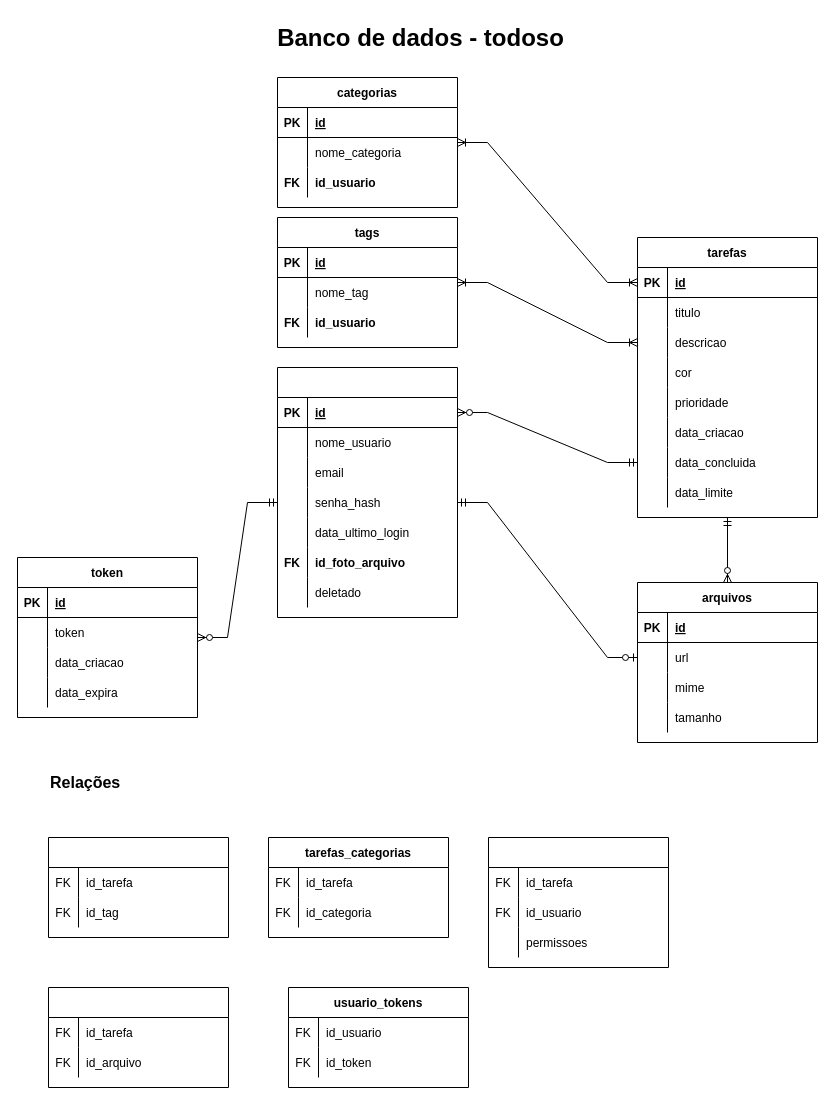
This 835x1105 diagram has some shape labels left out. Here are the shapes that lost their labels. From the top down, the box of each, then its label:
(276, 366, 458, 618): usuarios
(48, 836, 228, 938): tarefas_tags
(488, 836, 668, 968): tarefas_usuarios
(48, 986, 228, 1088): tarefas_arquivos
